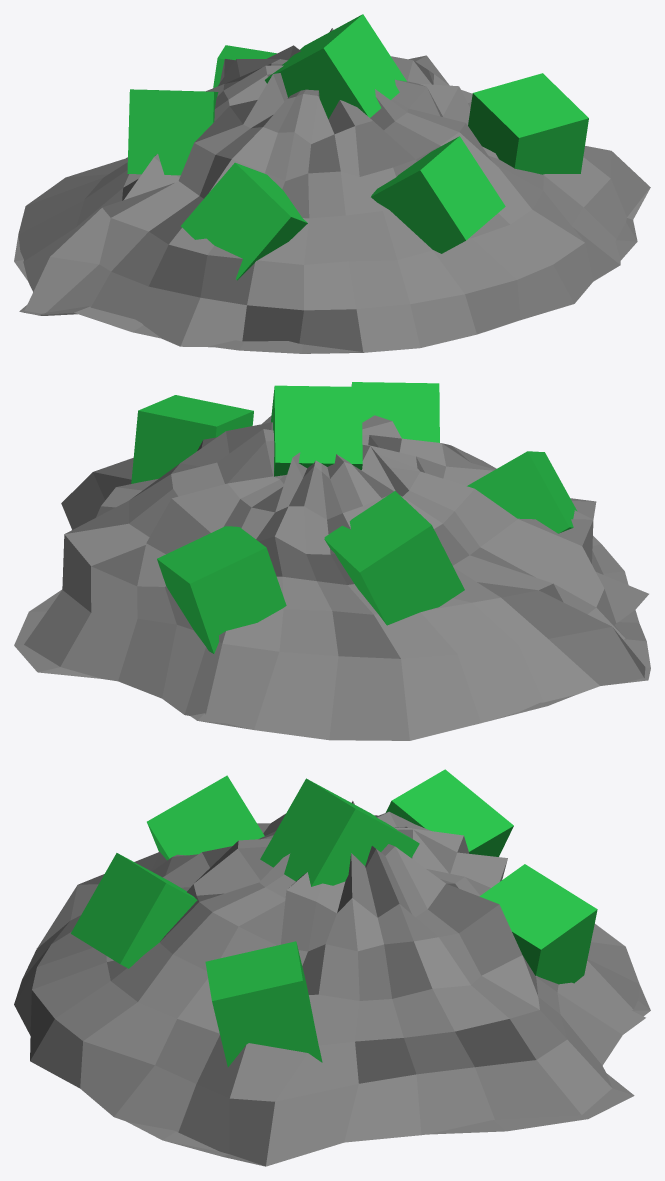
The model's file is filledRock.fbx.
The picture shows the model from 3 angles, top to bottom: view 1: azimuth 30°, elevation 25°; view 2: azimuth 150°, elevation 25°; view 3: azimuth 270°, elevation 25°; orthographic projection. The views are drawn at different scales.
Parts seen in each view (by area): view 1: Sphere, Cube.004, Cube.001, Cube.003, Cube.002, Cube, Cube.005; view 2: Sphere, Cube, Cube.005, Cube.002, Cube.004, Cube.003, Cube.001; view 3: Sphere, Cube.004, Cube.002, Cube.005, Cube.001, Cube.003, Cube.
Part boxes in pixels (bbox=[...]): Sphere: bbox=[14, 28, 650, 353]; Cube.004: bbox=[468, 73, 588, 174]; Cube.001: bbox=[371, 136, 505, 253]; Cube.003: bbox=[181, 162, 307, 280]; Cube.002: bbox=[265, 14, 406, 118]; Cube: bbox=[127, 89, 218, 175]; Cube.005: bbox=[213, 45, 276, 88]; Sphere: bbox=[14, 415, 650, 740]; Cube: bbox=[324, 491, 464, 625]; Cube.005: bbox=[157, 526, 286, 653]; Cube.002: bbox=[271, 385, 362, 476]; Cube.004: bbox=[131, 395, 253, 483]; Cube.003: bbox=[467, 451, 577, 533]; Cube.001: bbox=[351, 382, 439, 442]; Sphere: bbox=[14, 801, 650, 1166]; Cube.004: bbox=[205, 941, 322, 1067]; Cube.002: bbox=[260, 778, 419, 886]; Cube.005: bbox=[479, 864, 597, 984]; Cube.001: bbox=[71, 853, 197, 968]; Cube.003: bbox=[147, 775, 264, 860]; Cube: bbox=[385, 769, 513, 856].
Size of the model in its own units: 410 by 140 by 342.
